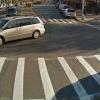Crosswalk: (4, 50, 99, 100)
